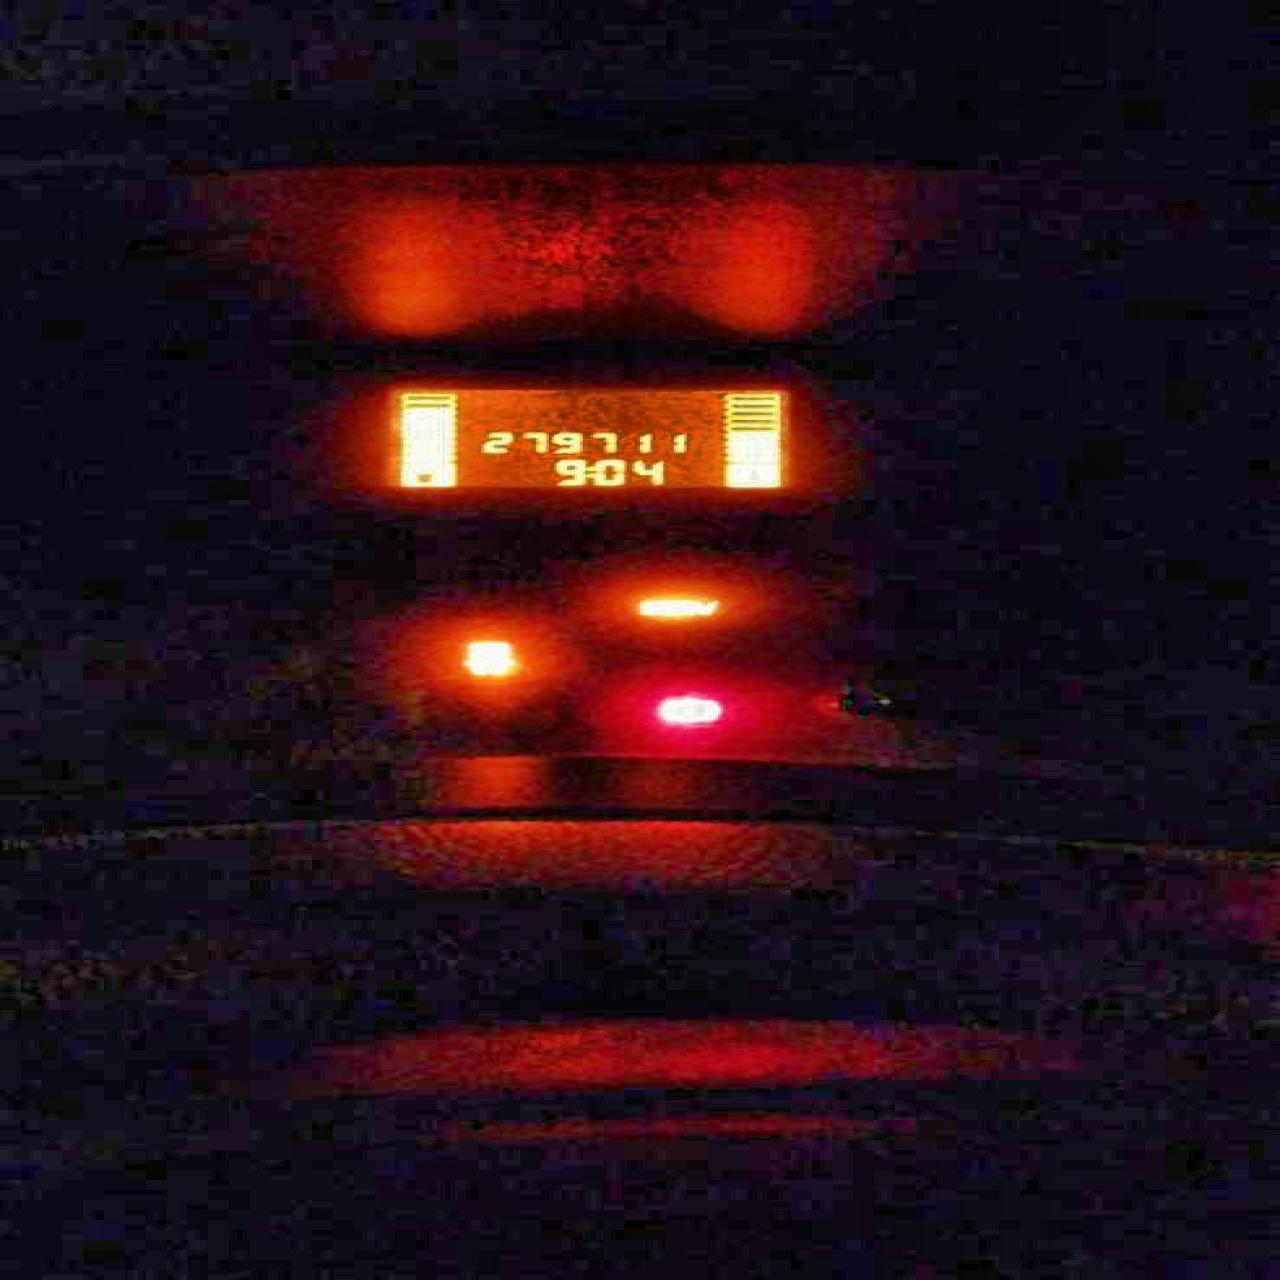0: (590, 459, 624, 486)
1: (669, 432, 684, 452), (635, 432, 650, 452)
2: (476, 430, 510, 452)
4: (627, 459, 663, 486)
7: (518, 430, 546, 451), (588, 432, 617, 452)
9: (549, 457, 585, 485), (549, 430, 583, 454)
X: (583, 465, 593, 477)
odometer: (362, 384, 796, 490)
